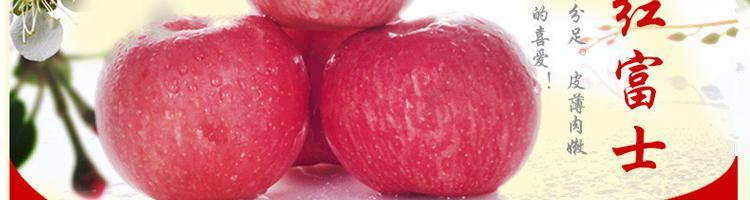apple: (313, 17, 537, 195), (92, 13, 309, 194)
